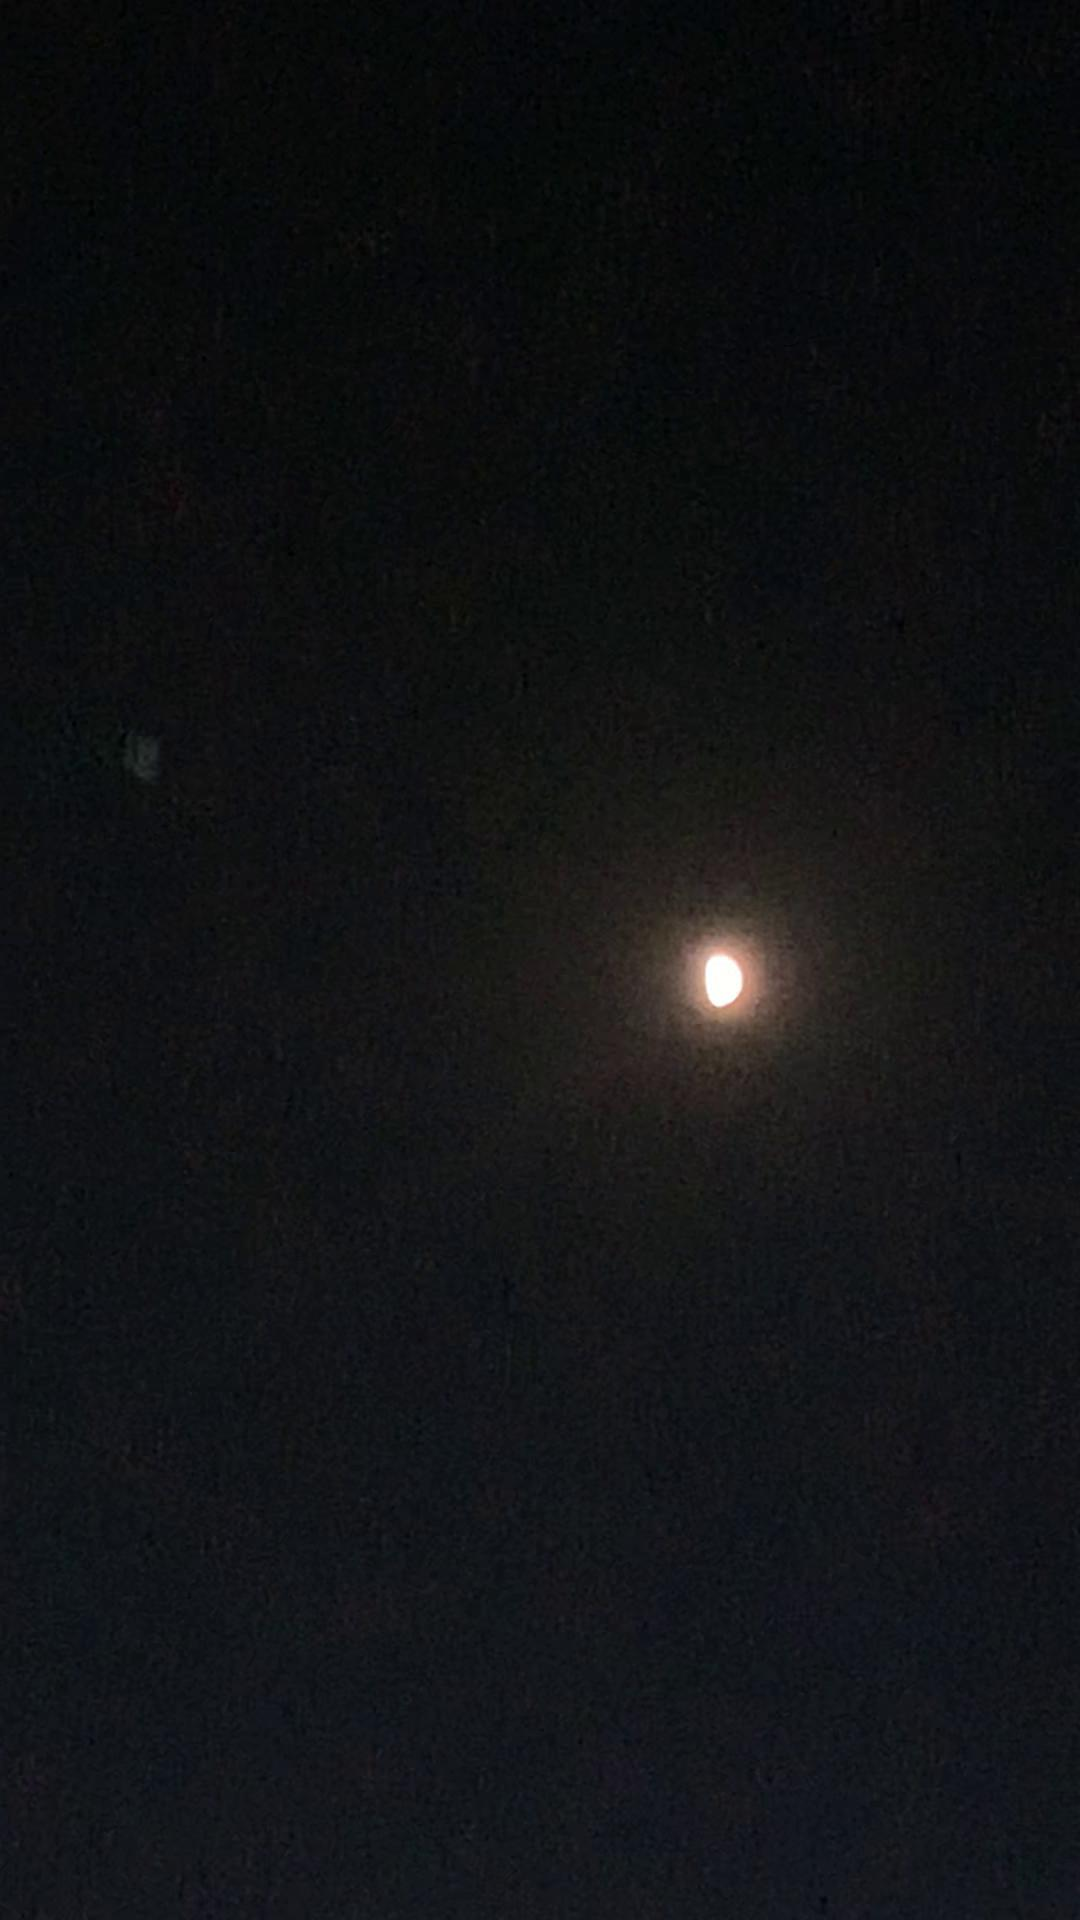moon: (680, 931, 770, 1013)
